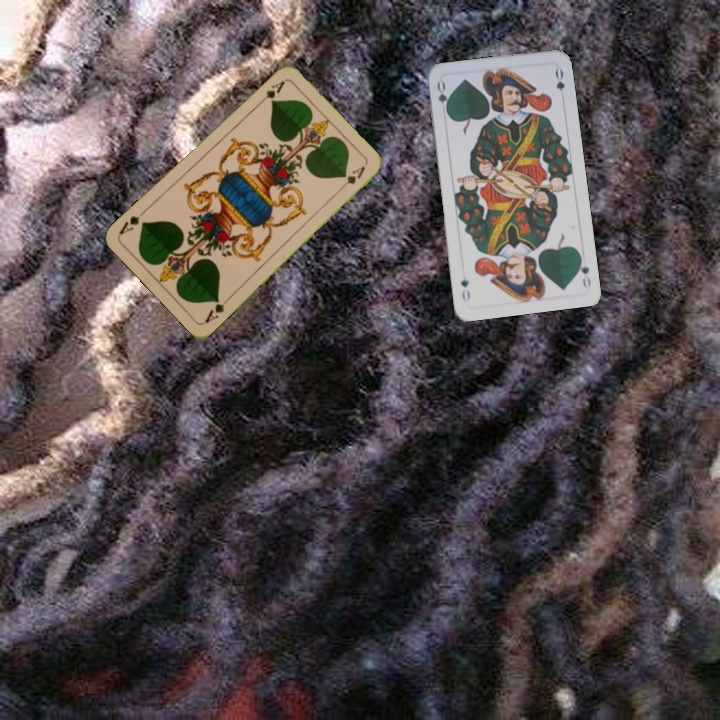GA: (254, 76, 288, 108), (201, 293, 233, 326)
GO: (574, 250, 593, 290), (433, 77, 451, 118)
